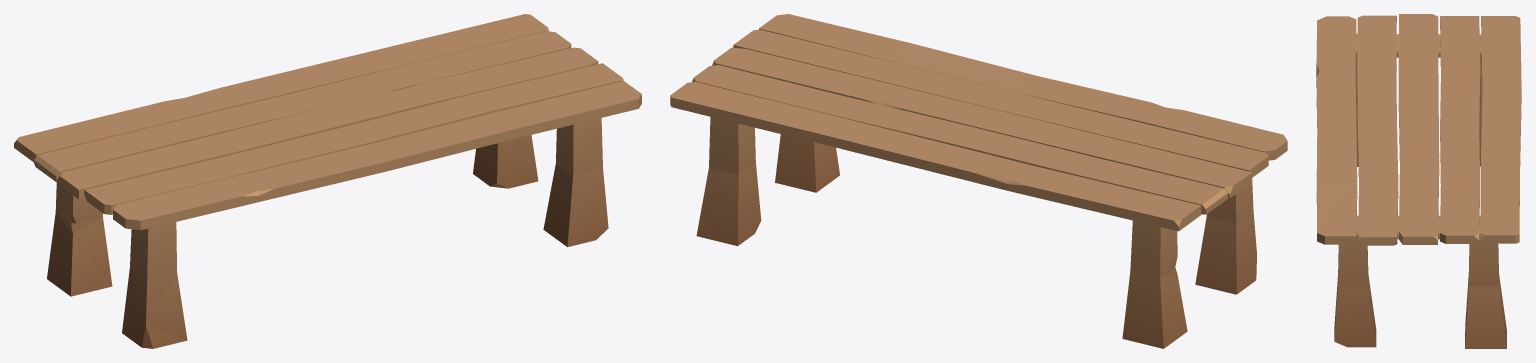
File: SM_Table_01.fbx
3 renders of one model, left to right at view 1: azimuth 30°, elevation 25°; view 2: azimuth 150°, elevation 25°; view 3: azimuth 270°, elevation 25°, orthographic. The views are drawn at different scales.
Visible parts, largest first — view 1: SM_Table_01; view 2: SM_Table_01; view 3: SM_Table_01.
Part boxes in pixels (left/top/right/bottom): SM_Table_01: left=14, top=14, right=641, bottom=348; SM_Table_01: left=670, top=14, right=1287, bottom=348; SM_Table_01: left=1316, top=14, right=1521, bottom=348.
Bounding box in the file's own units: 311 × 80.19 × 121.
